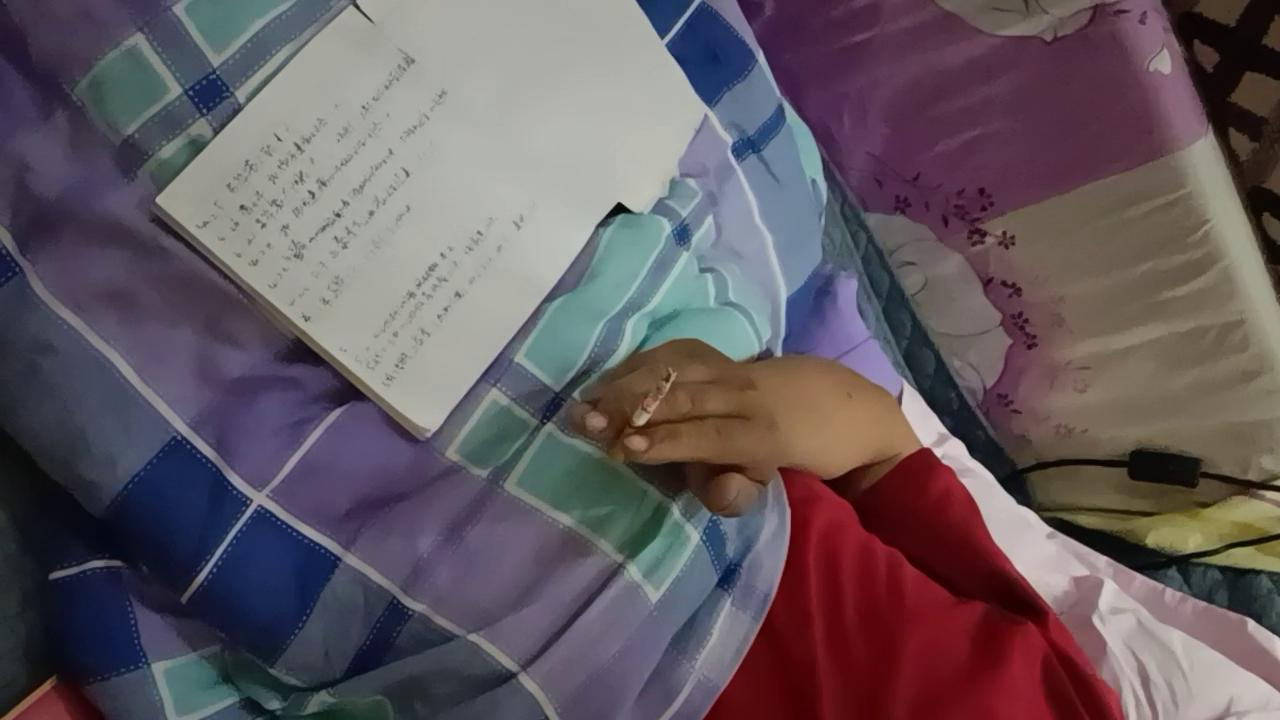smoke: (608, 369, 675, 464)
